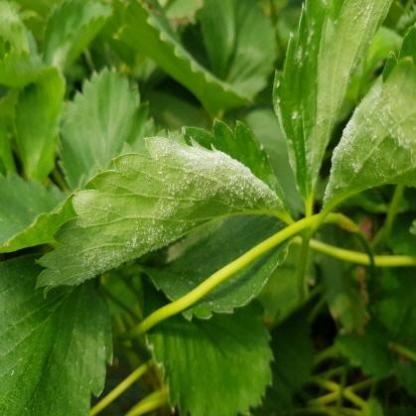Strawberry_Powdery_Mildew_Leaf: (34, 116, 293, 302), (272, 0, 398, 204), (318, 25, 416, 217), (136, 214, 299, 323)
